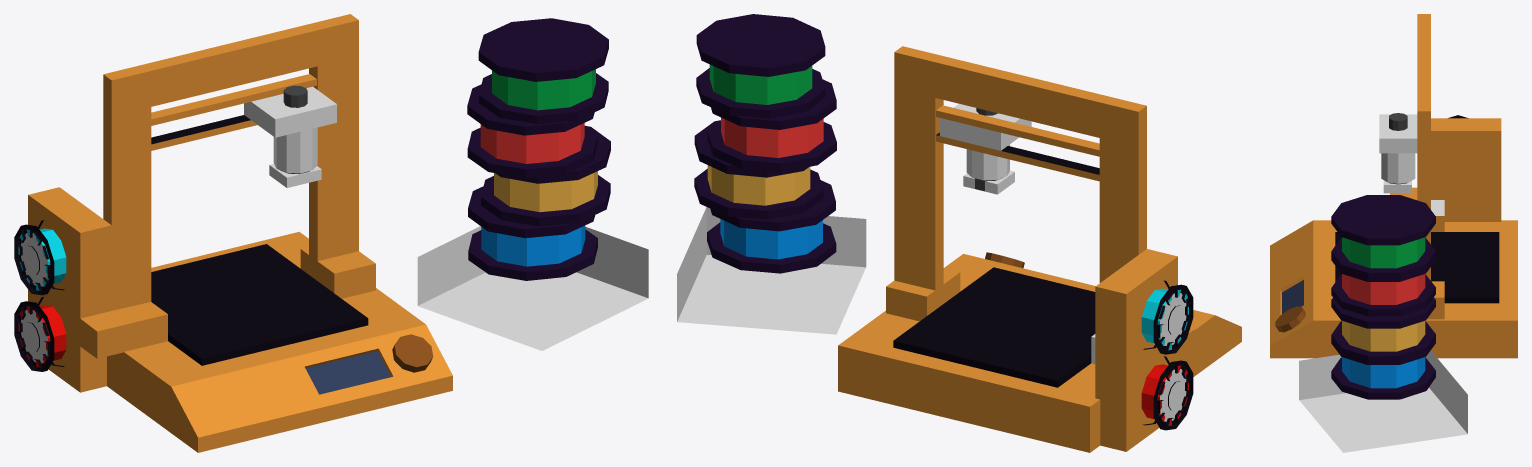
Rendered from 3DPrinterMoveableModel.glb.
3 renders of one model, left to right at view 1: azimuth 30°, elevation 25°; view 2: azimuth 150°, elevation 25°; view 3: azimuth 270°, elevation 25°, orthographic. The views are drawn at different scales.
Visible parts, largest first — view 1: 3DPrinter:LowPol, Plane, Cylinder.002, Cylinder.004, Cylinder.001, Cylinder.003; view 2: 3DPrinter:LowPol, Plane, Cylinder.002, Cylinder.004, Cylinder.001, Cylinder.003; view 3: 3DPrinter:LowPol, Plane, Cylinder.002, Cylinder.003, Cylinder.001, Cylinder.004.
Boxes of the visible parts, x1,y1,x2,y2 form: 3DPrinter:LowPol: (14, 14, 452, 452); Plane: (417, 226, 648, 350); Cylinder.002: (478, 18, 608, 123); Cylinder.004: (468, 186, 597, 280); Cylinder.001: (467, 84, 597, 178); Cylinder.003: (481, 125, 610, 226); 3DPrinter:LowPol: (838, 46, 1241, 452); Plane: (677, 207, 866, 334); Cylinder.002: (696, 14, 825, 118); Cylinder.004: (707, 180, 836, 273); Cylinder.001: (707, 79, 836, 171); Cylinder.003: (694, 120, 823, 219); 3DPrinter:LowPol: (1270, 14, 1517, 358); Plane: (1299, 350, 1467, 452); Cylinder.002: (1331, 195, 1435, 279); Cylinder.003: (1331, 297, 1435, 363); Cylinder.001: (1331, 258, 1435, 316); Cylinder.004: (1331, 341, 1435, 399).
Size of the model in its own units: 5.88 by 3.13 by 2.86.
